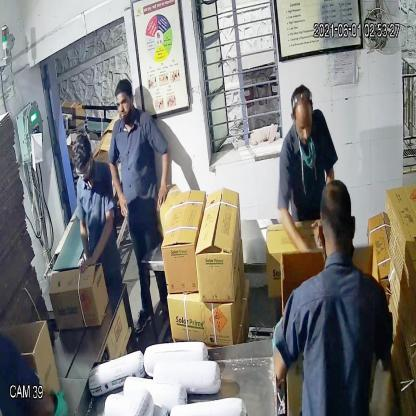goggles: (69, 158, 94, 184)
no_goggles: (114, 96, 135, 114)
